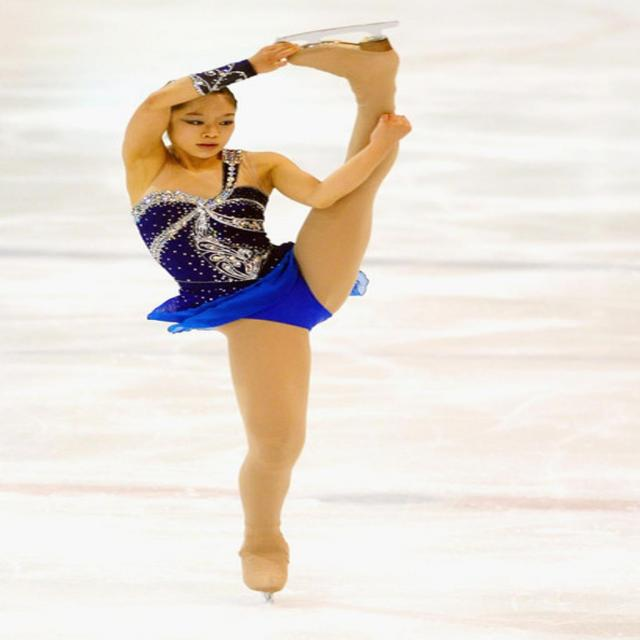nomask: (168, 91, 234, 158)
